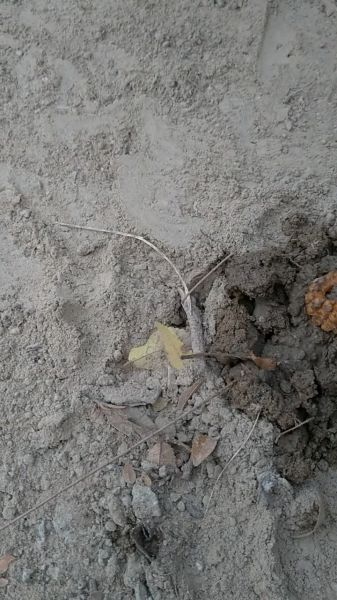eggs: (300, 263, 337, 340)
